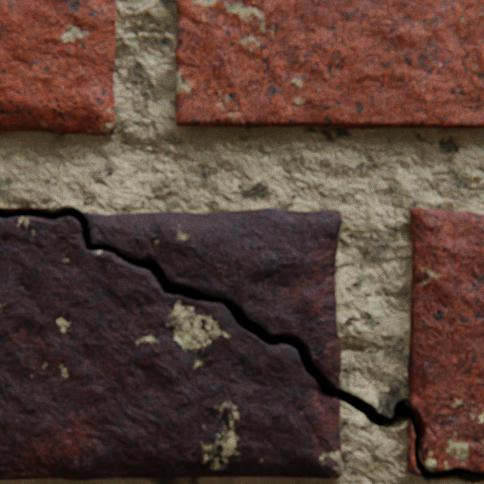brick: (176, 0, 483, 129)
broken_brick: (0, 217, 343, 479), (83, 209, 341, 387), (407, 208, 483, 471), (0, 0, 116, 136), (406, 419, 418, 473)
crack: (0, 207, 483, 482)
